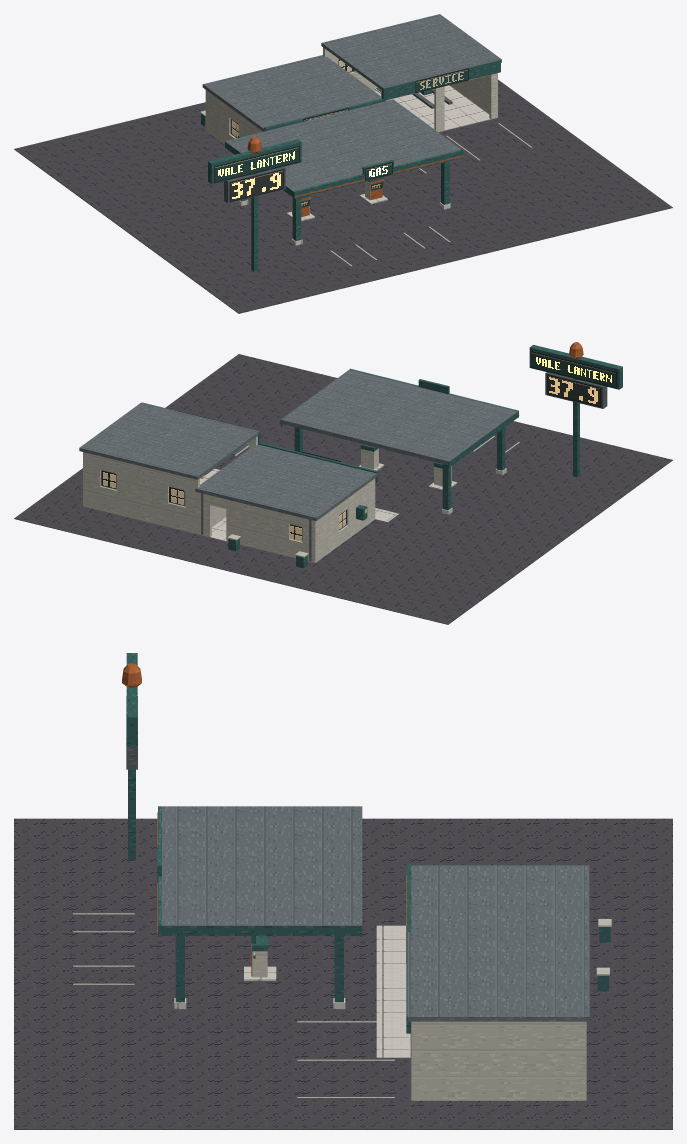
The model's file is vale-lantern-1945-mid.glb.
The picture shows the model from 3 angles, top to bottom: view 1: azimuth 30°, elevation 25°; view 2: azimuth 150°, elevation 25°; view 3: azimuth 270°, elevation 25°; orthographic projection. The views are drawn at different scales.
Parts seen in each view (by area): view 1: lot, shell, fuel_canopy, roadside_sign, interior, sign_name_street, price_face_street, pump_2; view 2: lot, shell, fuel_canopy, roadside_sign, sign_name_exit, price_face_exit, interior, pump_2; view 3: lot, shell, fuel_canopy, roadside_sign, pump_2.
Part boxes in pixels (left/top/right/bottom): lot: left=14, top=79, right=672, bottom=313; shell: left=202, top=14, right=501, bottom=144; fuel_canopy: left=225, top=99, right=463, bottom=245; roadside_sign: left=208, top=136, right=301, bottom=271; interior: left=206, top=85, right=496, bottom=144; sign_name_street: left=214, top=145, right=299, bottom=183; price_face_street: left=229, top=169, right=284, bottom=202; pump_2: left=359, top=177, right=387, bottom=204; lot: left=14, top=354, right=672, bottom=624; shell: left=79, top=402, right=378, bottom=562; fuel_canopy: left=280, top=368, right=519, bottom=515; roadside_sign: left=529, top=342, right=622, bottom=476; sign_name_exit: left=531, top=351, right=616, bottom=388; price_face_exit: left=547, top=374, right=601, bottom=407; interior: left=83, top=477, right=372, bottom=563; pump_2: left=359, top=444, right=384, bottom=470; lot: left=14, top=818, right=672, bottom=1129; shell: left=406, top=863, right=589, bottom=1100; fuel_canopy: left=157, top=806, right=362, bottom=1009; roadside_sign: left=122, top=653, right=141, bottom=860; pump_2: left=244, top=936, right=276, bottom=981.
Bounding box in the file's own units: 31.45 × 9.19 × 28.2.
Materials: 11 (11 with a texture image).
